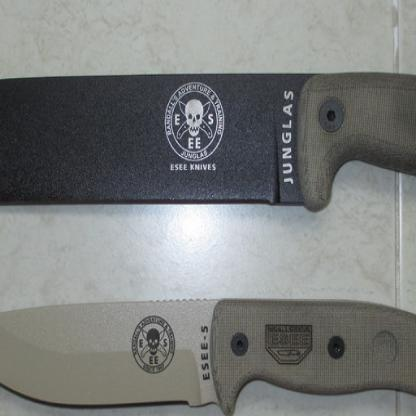knife: (0, 71, 415, 245), (0, 292, 415, 414)
